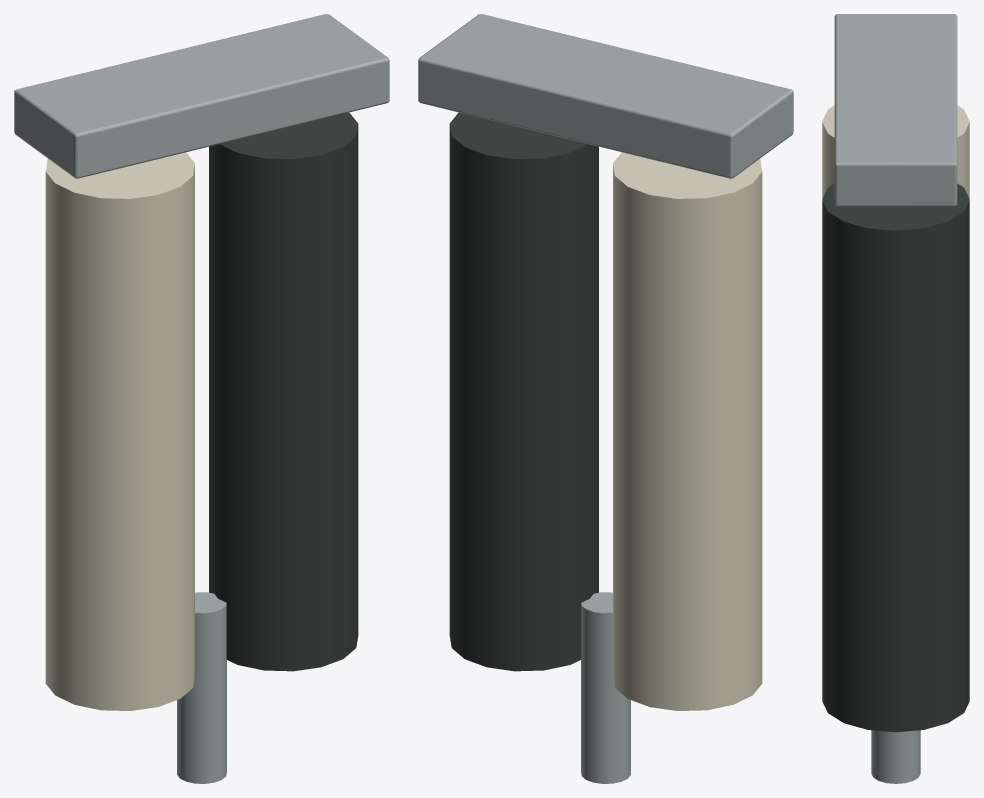
File: scavengers-loot-library-epoxy-syringe-e9aa0509__2618.glb
3 renders of one model, left to right at view 1: azimuth 30°, elevation 25°; view 2: azimuth 150°, elevation 25°; view 3: azimuth 270°, elevation 25°, orthographic. The views are drawn at different scales.
Parts seen in each view (by area): view 1: epoxy-syringe; view 2: epoxy-syringe; view 3: epoxy-syringe.
Boxes of the visible parts, <box> form: epoxy-syringe: <box>14,14,389,783</box>; epoxy-syringe: <box>418,14,793,783</box>; epoxy-syringe: <box>822,14,969,783</box>.
Size of the model in its own units: 0.058 by 0.123 by 0.024.
